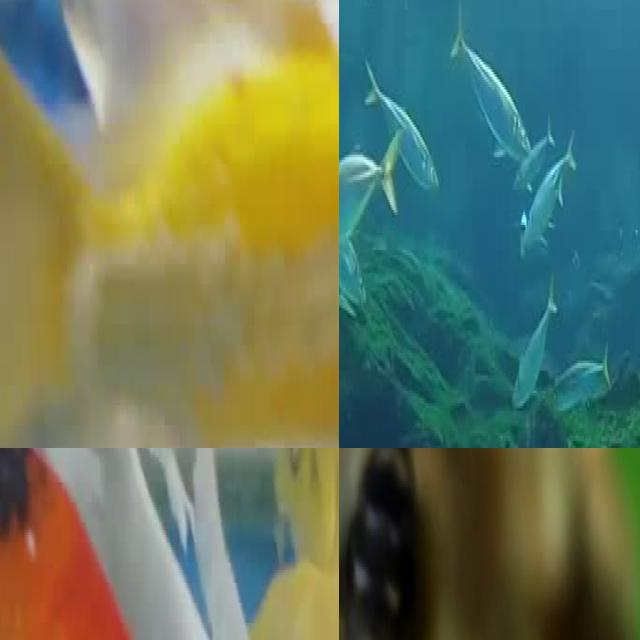fish: (0, 0, 339, 448), (339, 448, 453, 640)
